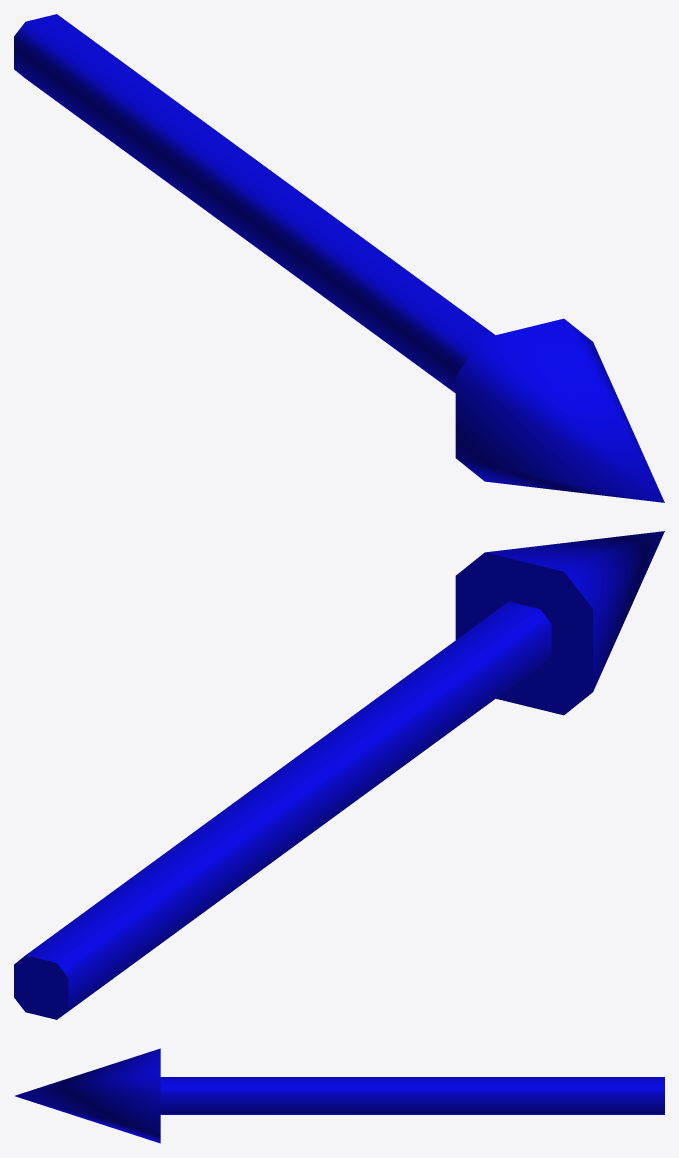
File: Move_Z.fbx
3 renders of one model, top to bottom at view 1: azimuth 30°, elevation 25°; view 2: azimuth 150°, elevation 25°; view 3: azimuth 270°, elevation 25°, orthographic. The views are drawn at different scales.
Visible parts, largest first — view 1: Move_Z; view 2: Move_Z; view 3: Move_Z.
Part boxes in pixels (left/top/right/bottom): Move_Z: left=14, top=14, right=664, bottom=502; Move_Z: left=14, top=531, right=664, bottom=1019; Move_Z: left=15, top=1048, right=664, bottom=1143.
Size of the model in its own units: 0.0689 by 0.0689 by 0.5423.
